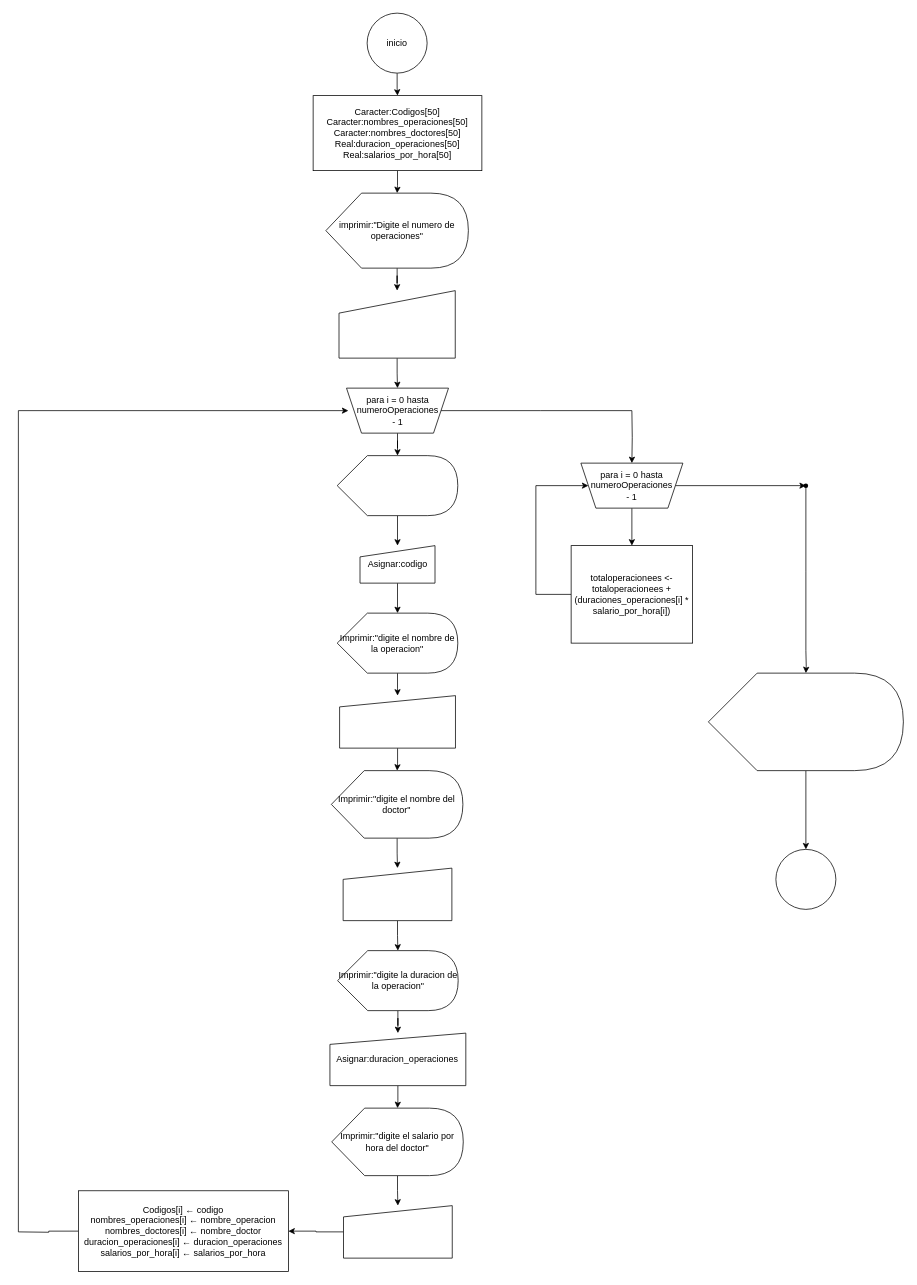
Image size: 917x1285. Some labels were removed from this diagram. Here are the shapes that lost their labels. From the top down, the box of each, then its label:
(338, 290, 455, 358): asignar: NumeroOperaciones
(336, 455, 458, 516): Imprimir:"digite el codigo de la operacion"
(339, 695, 455, 748): Asignar:nombre_operacion
(708, 672, 903, 771): imprimir: "el total de las operaciones es: " + totaloperacionees
(342, 867, 452, 921): Asignar:nombre_doctor
(343, 1205, 452, 1258): Asignar:salarios_por_hora
